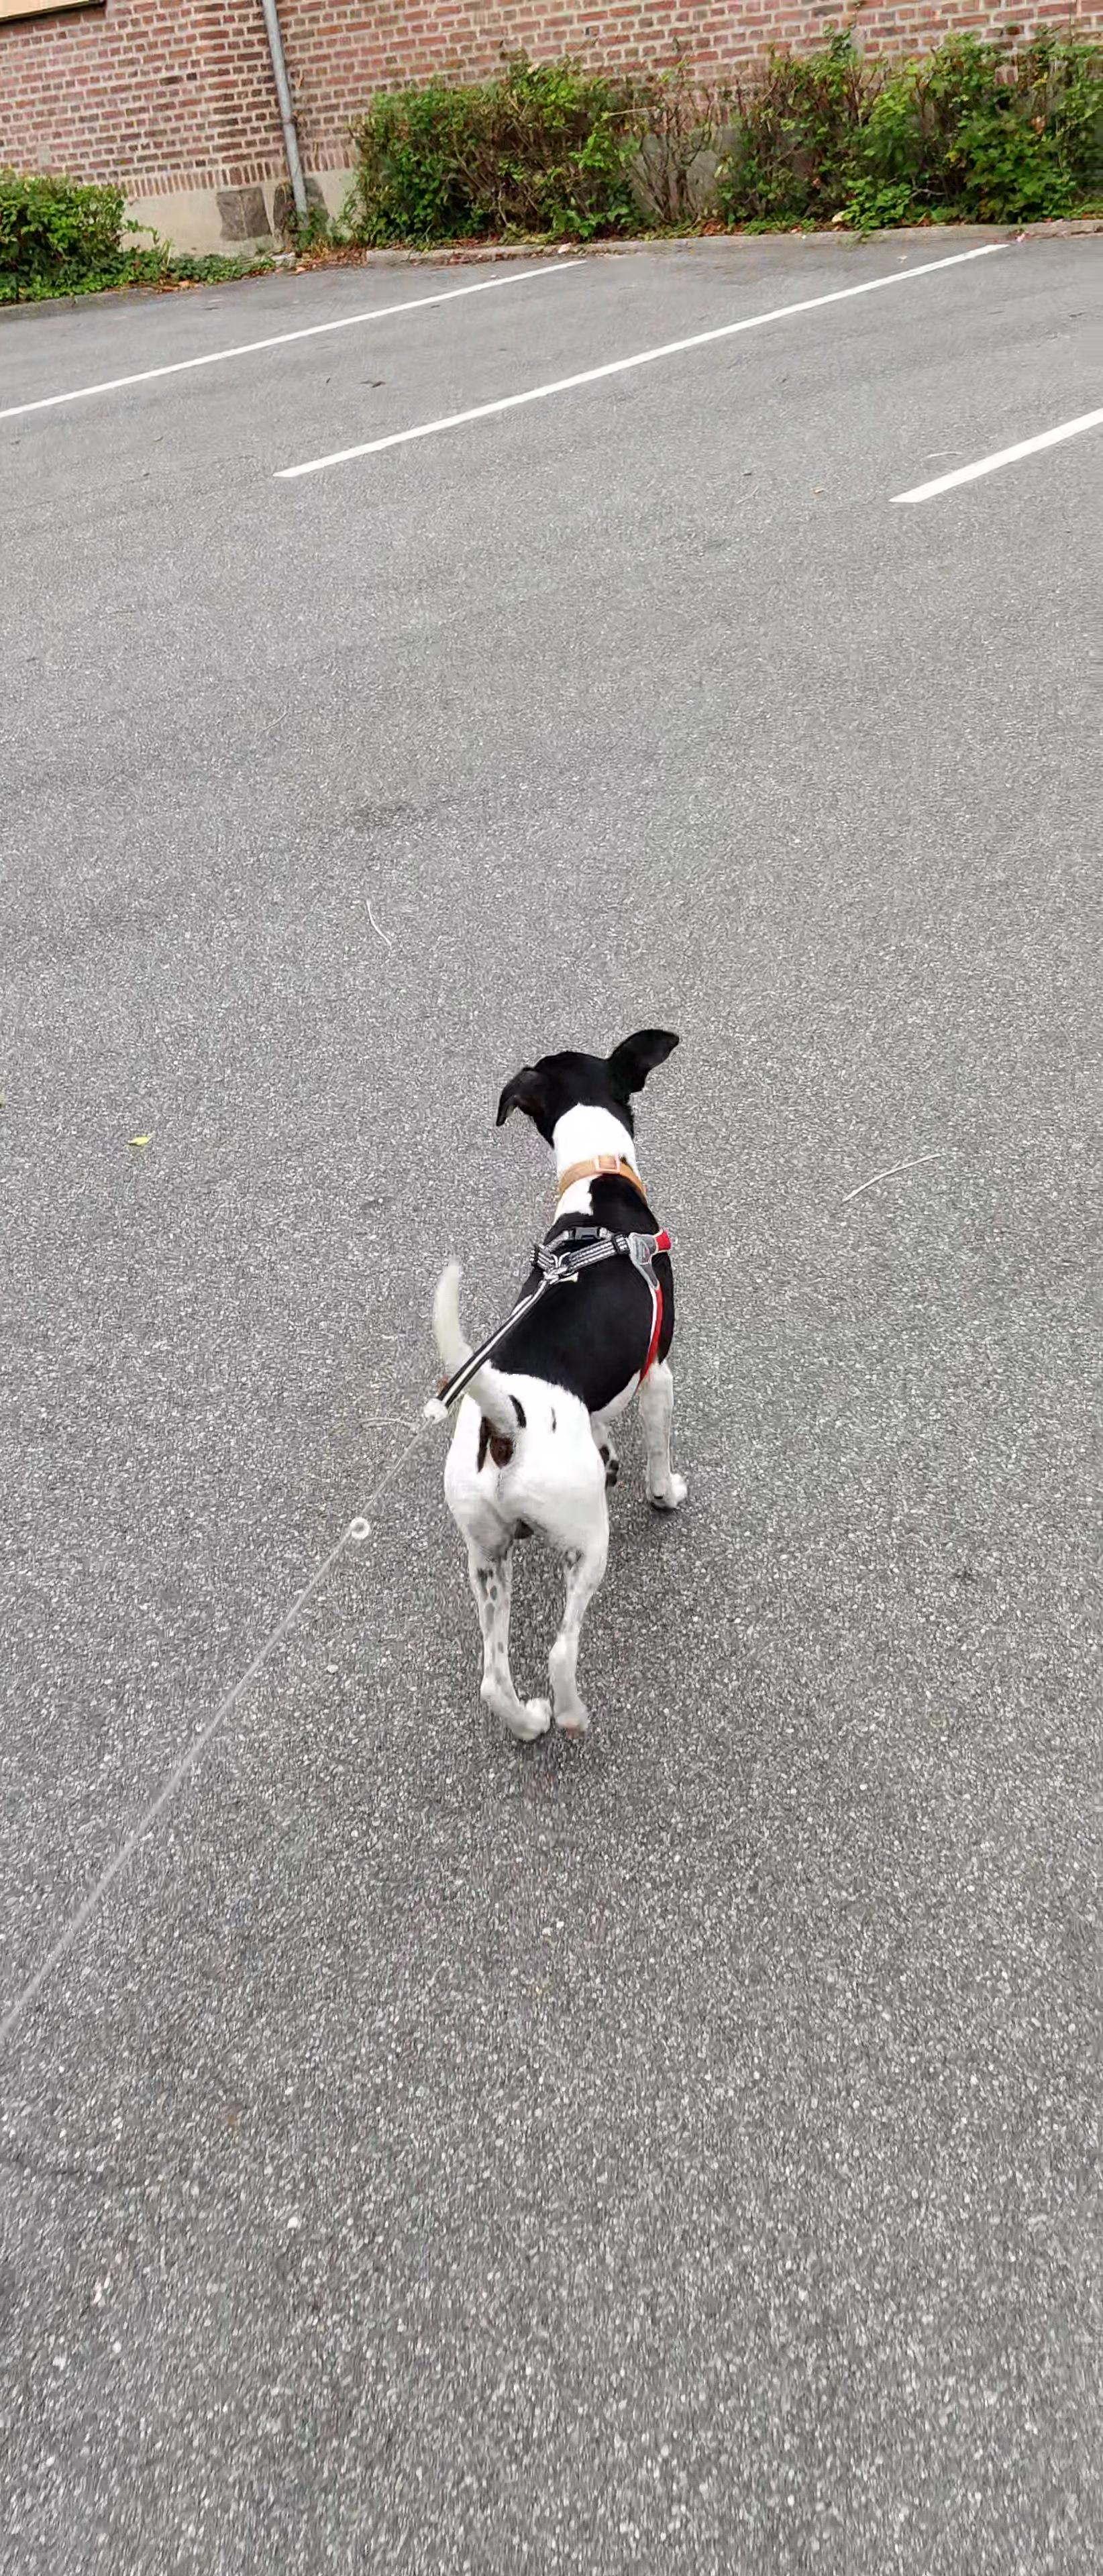Dog: (399, 1023, 720, 1743)
